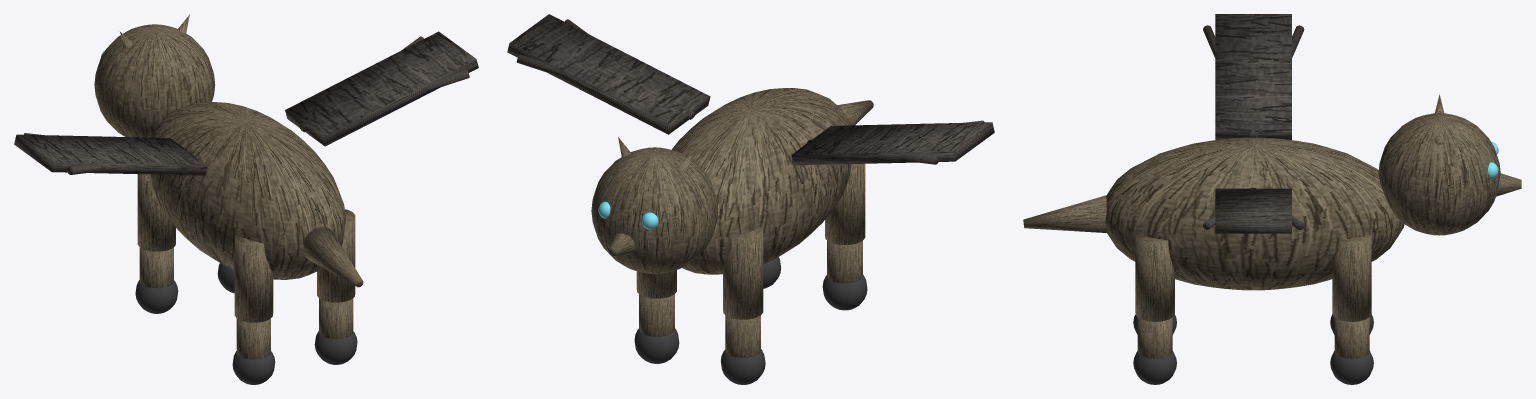
The model's file is wyvern.glb.
3 renders of one model, left to right at view 1: azimuth 30°, elevation 25°; view 2: azimuth 150°, elevation 25°; view 3: azimuth 270°, elevation 25°, orthographic. The views are drawn at different scales.
Visible parts, largest first — view 1: Body, Head, Wing.001, Wing, LegUpper, LegUpper.001, Tail, LegUpper.002, LegLower.002, LegLower, LegLower.001, Paw.002 (+3 smaller); view 2: Body, Head, Wing.001, Wing, LegUpper.001, LegUpper, LegLower.003, LegLower, LegLower.001, Paw, Paw.001, Paw.003 (+5 smaller); view 3: Body, Head, Wing, Wing.001, LegUpper.002, LegUpper.003, Tail, LegLower.002, LegLower.003, Paw.003, Paw.002.
Boxes of the visible parts, x1,y1,x2,y2 form: Body: [151, 102, 345, 279]; Head: [94, 24, 215, 137]; Wing.001: [285, 31, 478, 146]; Wing: [14, 134, 207, 175]; LegUpper: [234, 235, 273, 322]; LegUpper.001: [137, 174, 175, 251]; Tail: [303, 226, 363, 287]; LegUpper.002: [317, 209, 355, 302]; LegLower.002: [319, 298, 353, 339]; LegLower: [236, 318, 270, 359]; LegLower.001: [139, 247, 173, 288]; Paw.002: [314, 331, 357, 364]; Body: [671, 88, 851, 274]; Head: [591, 147, 717, 273]; Wing.001: [507, 14, 710, 134]; Wing: [791, 122, 994, 165]; LegUpper.001: [723, 227, 763, 319]; LegUpper: [825, 163, 865, 244]; LegLower.003: [639, 294, 674, 336]; LegLower: [827, 240, 862, 283]; LegLower.001: [725, 315, 760, 357]; Paw: [822, 275, 867, 310]; Paw.001: [720, 349, 765, 384]; Paw.003: [634, 328, 679, 363]; Body: [1105, 137, 1404, 290]; Head: [1378, 113, 1500, 235]; Wing: [1215, 14, 1291, 139]; Wing.001: [1215, 188, 1291, 233]; LegUpper.002: [1135, 234, 1174, 321]; LegUpper.003: [1332, 234, 1371, 321]; Tail: [1023, 195, 1106, 232]; LegLower.002: [1137, 317, 1172, 358]; LegLower.003: [1334, 317, 1369, 358]; Paw.003: [1330, 350, 1373, 384]; Paw.002: [1133, 351, 1176, 384].
Size of the model in its own units: 1.77 by 0.9814 by 1.76.
Materials: 5 (3 with a texture image).
